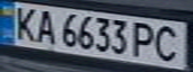3: (109, 17, 133, 56), (93, 16, 112, 54)
6: (57, 11, 81, 48), (75, 13, 96, 51)
A: (30, 8, 60, 45)
C: (151, 22, 187, 63)
K: (9, 3, 42, 42)
P: (127, 19, 160, 60)
